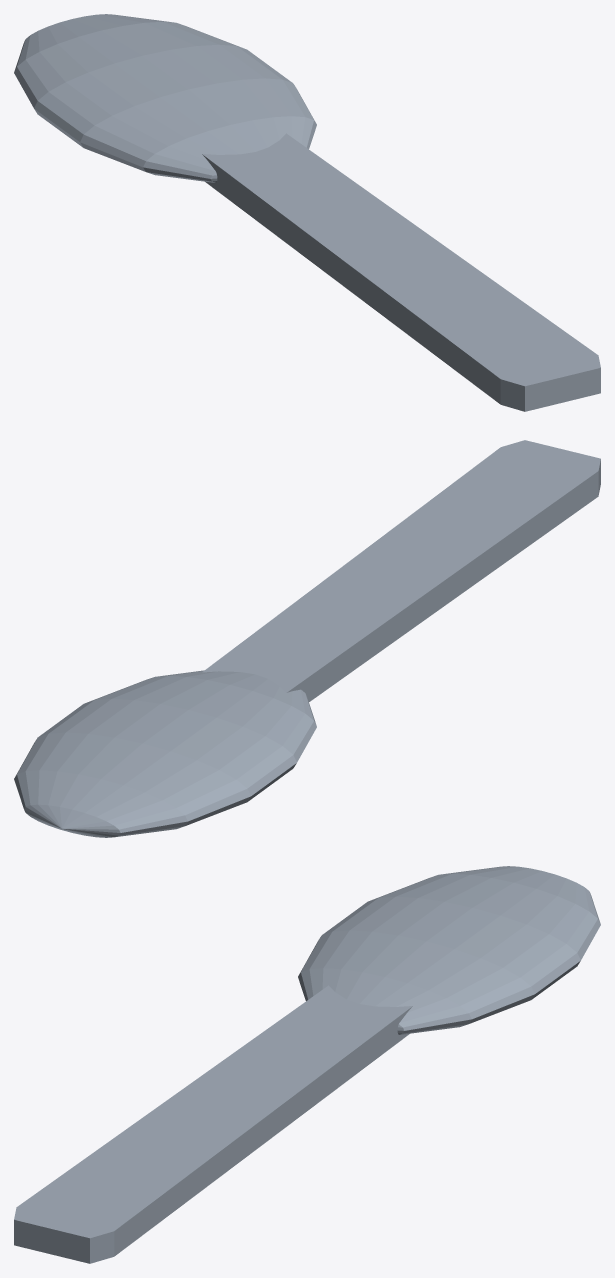
Rendered from colher_simples.fbx.
The picture shows the model from 3 angles, top to bottom: view 1: azimuth 30°, elevation 25°; view 2: azimuth 150°, elevation 25°; view 3: azimuth 330°, elevation 25°; orthographic projection.
Visible parts, largest first — view 1: colher; view 2: colher; view 3: colher.
Boxes of the visible parts, x1,y1,x2,y2 form: colher: [14, 14, 600, 411]; colher: [14, 440, 600, 837]; colher: [14, 866, 600, 1263].
Bounding box in the file's own units: 1.6 × 6.39 × 0.3705.
